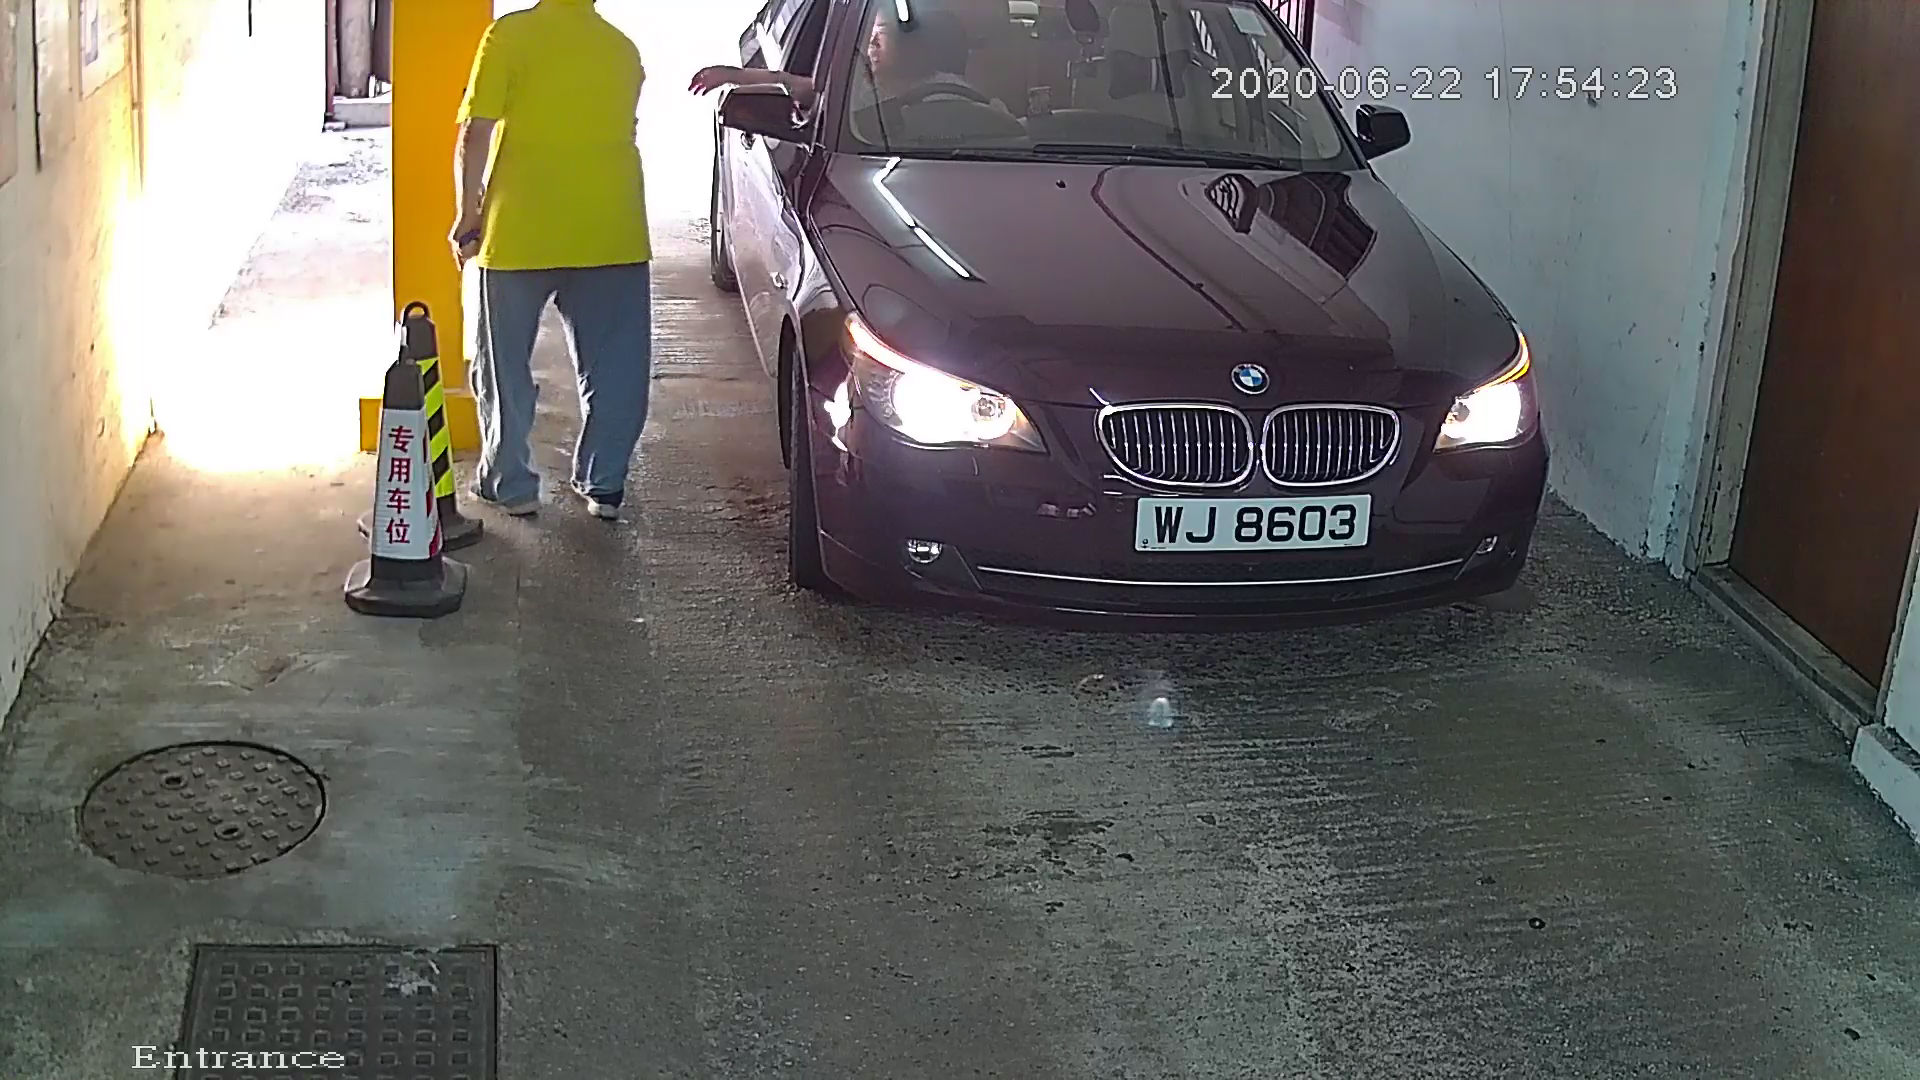privatecar: (655, 3, 1621, 709)
